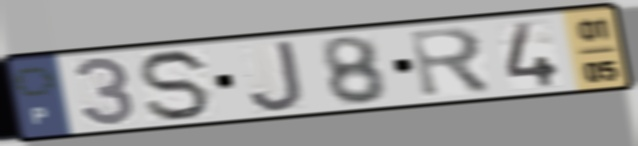3: (70, 54, 138, 130)
4: (502, 19, 564, 90)
8: (319, 34, 390, 107)
J: (245, 37, 307, 114)
R: (405, 24, 497, 101)
S: (136, 47, 216, 124)
